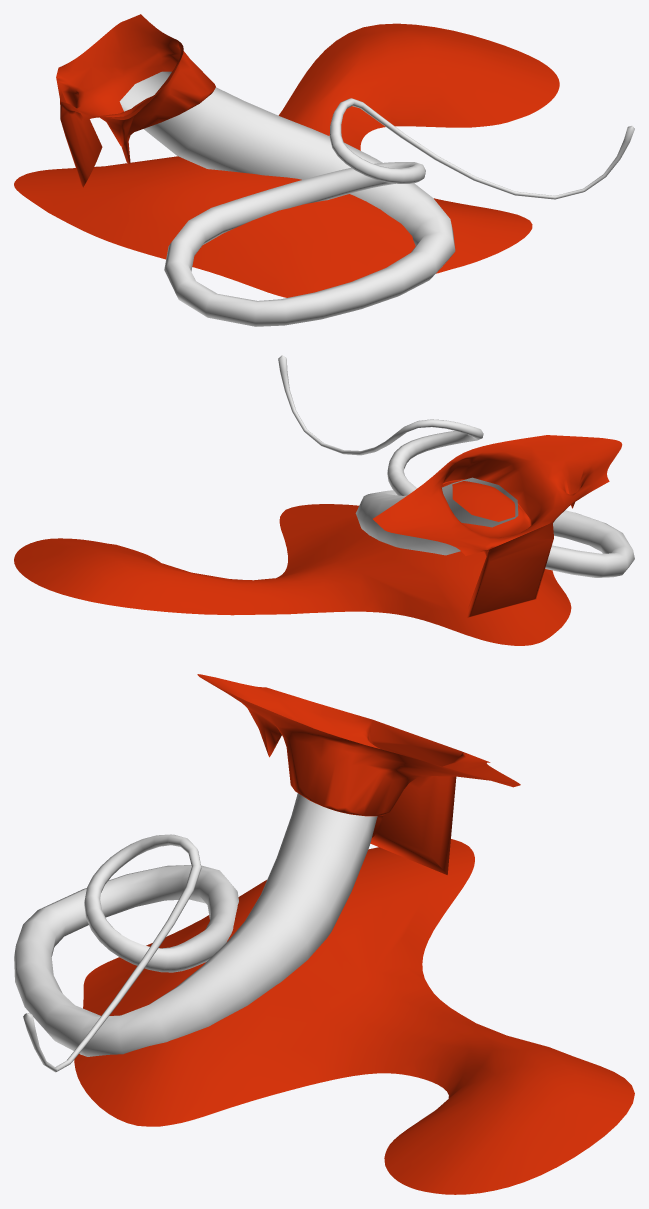
The picture shows the model from 3 angles, top to bottom: view 1: azimuth 30°, elevation 25°; view 2: azimuth 150°, elevation 25°; view 3: azimuth 270°, elevation 25°; orthographic projection. The views are drawn at different scales.
Parts seen in each view (by area): view 1: Gravel_1_LOD0, Root_01_LOD0; view 2: Gravel_1_LOD0, Root_01_LOD0; view 3: Gravel_1_LOD0, Root_01_LOD0.
Part boxes in pixels (box(x1,y1,x2,y2)): Gravel_1_LOD0: box(14, 14, 559, 297); Root_01_LOD0: box(119, 71, 634, 326); Gravel_1_LOD0: box(14, 435, 622, 645); Root_01_LOD0: box(278, 355, 634, 577); Gravel_1_LOD0: box(74, 674, 634, 1194); Root_01_LOD0: box(14, 793, 377, 1072).
Size of what is drawn, in the model's own units: 4370 by 1444 by 3471.
